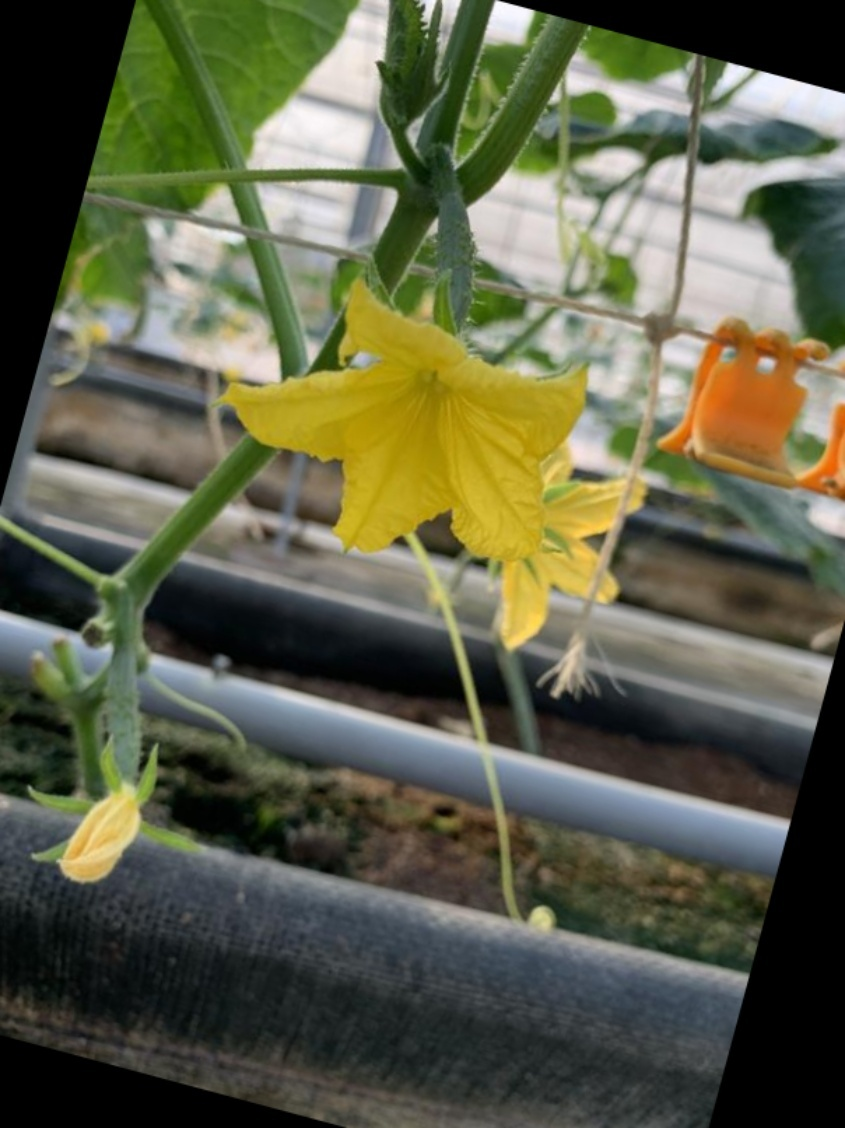flowering: (213, 170, 629, 564)
